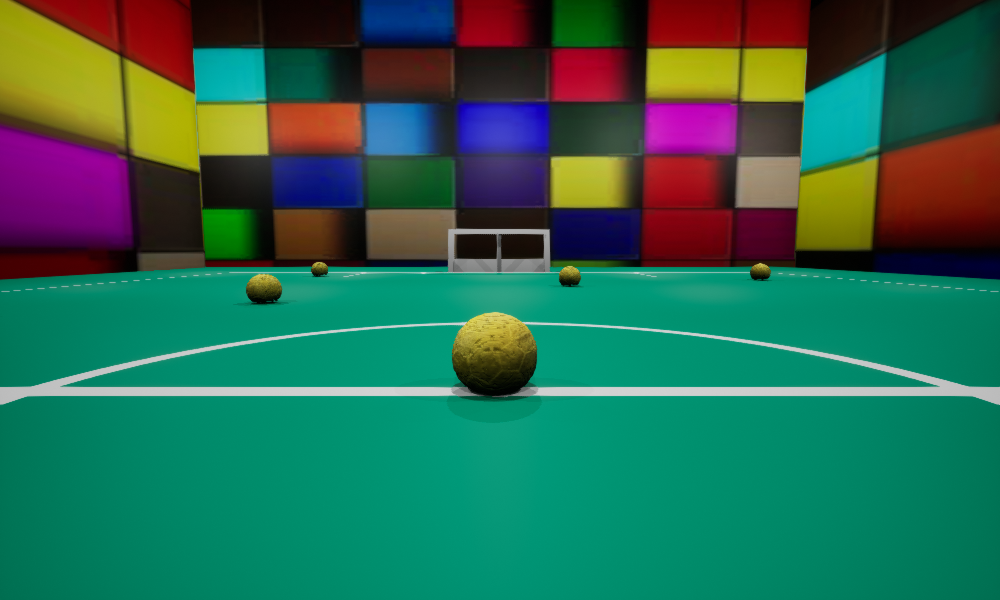b: (452, 312, 536, 392), (246, 274, 281, 303), (559, 266, 580, 285), (750, 263, 770, 279), (311, 262, 327, 275)
g: (448, 229, 549, 271)
